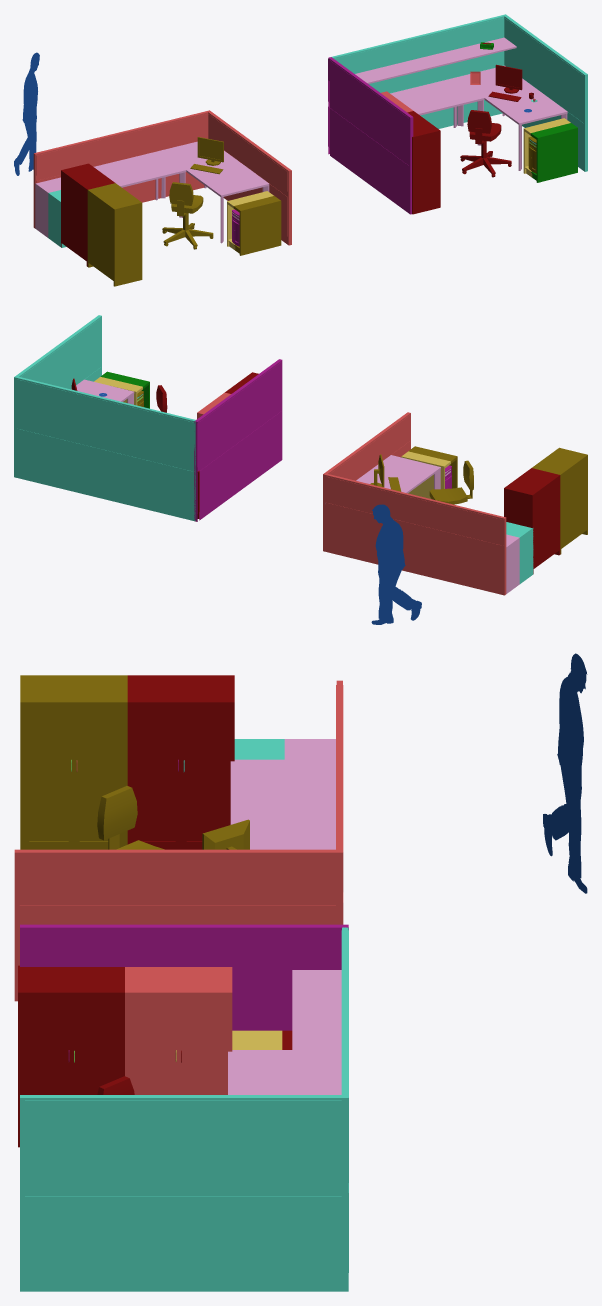
File: office-desk.obj
The picture shows the model from 3 angles, top to bottom: view 1: azimuth 30°, elevation 25°; view 2: azimuth 150°, elevation 25°; view 3: azimuth 270°, elevation 25°; orthographic projection. The views are drawn at different scales.
Visible parts, largest first — view 1: modul2_001, modul1_001, modul2_1_001, dlp1_005, Component_1_001, Component_1_002, dlp1_007, dlp1_001, pc_001, pc_003, half_2_007, half_2_003 (+6 smaller); view 2: modul2_001, modul1_001, modul2_1_001, dlp1_007, dlp1_005, 2D_Man_Suit_001, Component_1_002, pc_003, half_003, half_2_005, half_1_003, Component_1_001 (+2 smaller); view 3: modul2_001, modul1_001, modul2_1_001, dlp1_005, dlp1_007, dlp1_003, dlp1_001, Component_1_002, Component_3_001, 2D_Man_Suit_001, pc_003, Component_1_001 (+3 smaller).
Part boxes in pixels (bbox=[...]): modul2_001: bbox=[330, 14, 587, 171]; modul1_001: bbox=[33, 110, 291, 245]; modul2_1_001: bbox=[328, 57, 413, 214]; dlp1_005: bbox=[87, 183, 142, 286]; Component_1_001: bbox=[390, 65, 567, 170]; Component_1_002: bbox=[94, 141, 269, 243]; dlp1_007: bbox=[61, 163, 114, 266]; dlp1_001: bbox=[407, 111, 440, 214]; pc_001: bbox=[460, 64, 522, 177]; pc_003: bbox=[162, 137, 223, 249]; half_2_007: bbox=[233, 196, 281, 255]; half_2_003: bbox=[530, 123, 577, 182]; modul2_001: bbox=[14, 315, 195, 521]; modul1_001: bbox=[323, 412, 506, 595]; modul2_1_001: bbox=[194, 359, 282, 521]; dlp1_007: bbox=[504, 468, 560, 573]; dlp1_005: bbox=[532, 447, 587, 554]; 2D_Man_Suit_001: bbox=[371, 504, 421, 624]; Component_1_002: bbox=[325, 455, 440, 503]; pc_003: bbox=[370, 454, 473, 504]; half_003: bbox=[506, 522, 533, 583]; half_2_005: bbox=[401, 451, 450, 498]; half_1_003: bbox=[506, 534, 519, 593]; Component_1_001: bbox=[71, 379, 134, 404]; modul2_001: bbox=[20, 927, 348, 1291]; modul1_001: bbox=[14, 680, 343, 1001]; modul2_1_001: bbox=[20, 924, 348, 1030]; dlp1_005: bbox=[20, 675, 127, 849]; dlp1_007: bbox=[127, 675, 234, 849]; dlp1_003: bbox=[125, 967, 232, 1094]; dlp1_001: bbox=[18, 965, 124, 1147]; Component_1_002: bbox=[230, 759, 335, 849]; Component_3_001: bbox=[292, 970, 341, 1094]; 2D_Man_Suit_001: bbox=[543, 653, 587, 893]; pc_003: bbox=[97, 786, 249, 849]; Component_1_001: bbox=[228, 1050, 292, 1094].
Bounding box in the file's own units: 7778 × 1829 × 4074.
